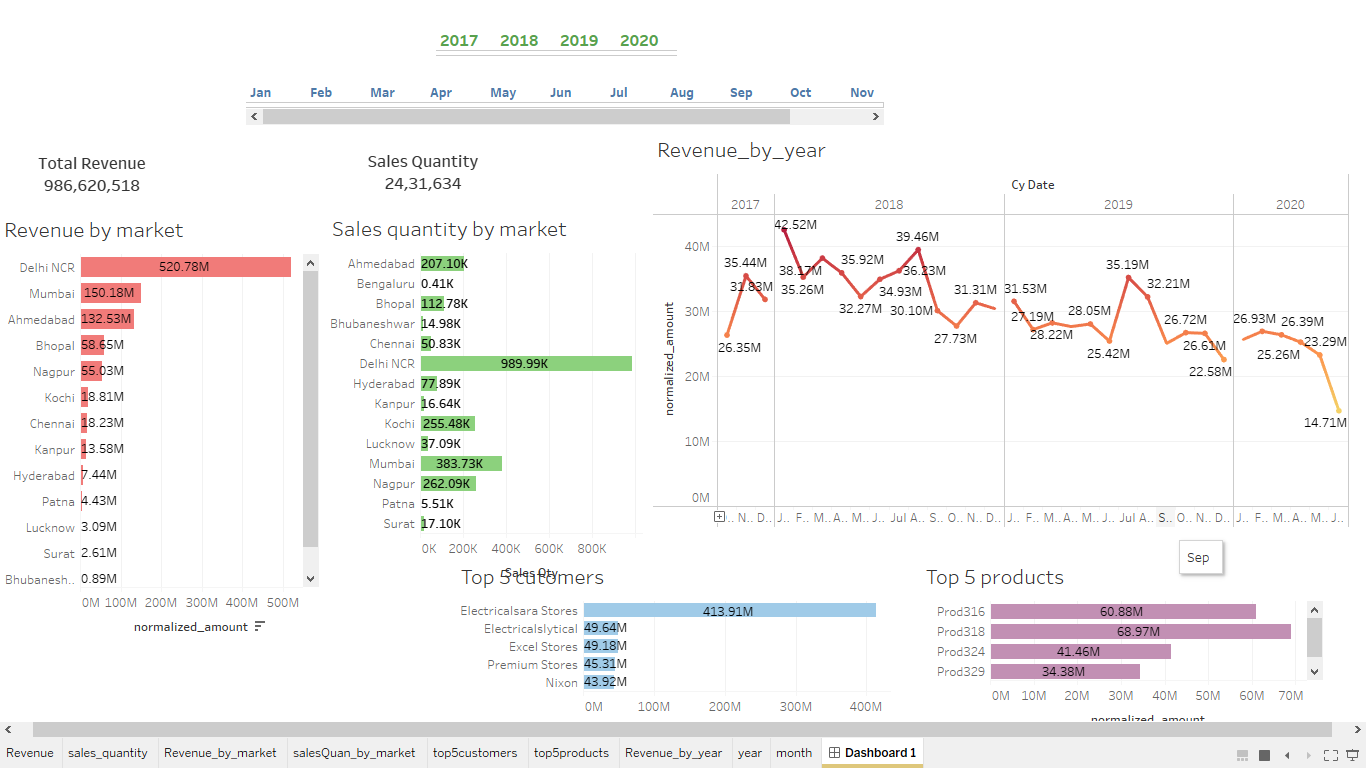

This screenshot's page, from the dashboard's own definition file:
{"tool":"tableau","page":{"name":"Dashboard 1","canvas":[1400,700],"ordinal":0},"visuals":[{"type":"worksheet","title":"year","mark":"Automatic","cols":["cy_date"],"box":[451.8,3.5,250.7,66.5]},{"type":"worksheet","title":"month","mark":"Automatic","cols":["cy_date"],"box":[262.2,57.2,637.6,70]},{"type":"worksheet","title":"Revenue_by_year","mark":"Automatic","rows":["Calculation_74027971750592512"],"cols":["cy_date","cy_date"],"box":[669.4,121.3,695.6,397.4]},{"type":"worksheet","title":"sales_quantity","mark":"Automatic","box":[378.9,125.2,318.5,69.2]},{"type":"worksheet","title":"Revenue","mark":"Automatic","box":[40.2,126.8,257.2,60.7]},{"type":"worksheet","title":"salesQuan_by_market","mark":"Automatic","rows":["markets_name"],"cols":["sales_qty"],"box":[343.9,199.9,315,431.7]},{"type":"worksheet","title":"Revenue_by_market","mark":"Automatic","rows":["markets_name"],"cols":["Calculation_74027971750592512"],"box":[15.8,201.4,319.4,430.9]}]}

Visuals, with their boxes on the page's 1400x700 design canvas (x1, y1, x2, y2). These are canvas units, not pixel positions in the 1366x768 screenshot, which may show the page scaled, cropped or inside an application window:
"year" worksheet: bbox(452, 4, 702, 70)
"month" worksheet: bbox(262, 57, 900, 127)
"Revenue_by_year" worksheet: bbox(669, 121, 1365, 519)
"sales_quantity" worksheet: bbox(379, 125, 697, 194)
"Revenue" worksheet: bbox(40, 127, 297, 188)
"salesQuan_by_market" worksheet: bbox(344, 200, 659, 632)
"Revenue_by_market" worksheet: bbox(16, 201, 335, 632)
